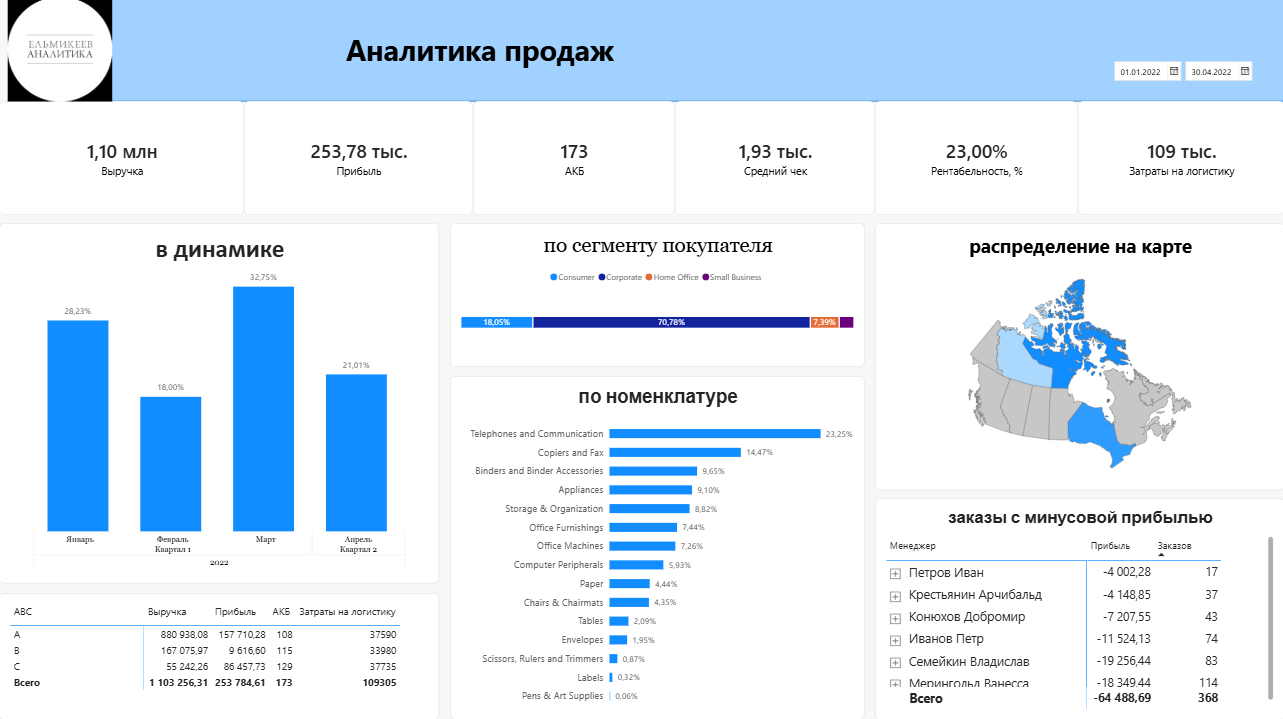

The page's visual inventory and layout, read from the dashboard file:
{"tool":"powerbi","page":{"name":"Страница 1","canvas":[1920,1080],"ordinal":0},"visuals":[{"type":"hundredPercentStackedBarChart","fields":{"Y":["Продажи.Выручка Всего"],"Series":["СПР_покупатели.Сегмент покупателя"]},"box":[673.5,336.8,619.1,214.7],"z":0},{"type":"clusteredColumnChart","title":"в динамике","fields":{"Category":["Календарь.Дата.Изменение.Иерархия дат.Год","Календарь.Дата.Изменение.Иерархия дат.Квартал","Календарь.Дата.Изменение.Иерархия дат.Месяц","Календарь.Дата.Изменение.Иерархия дат.День"],"Y":["Продажи.Выручка Всего"]},"box":[0,336.8,657.4,538.2],"z":1000},{"type":"shape","box":[17.6,0,1901.5,155.9],"z":1500},{"type":"shapeMap","fields":{"Category":["СПР_менеджеры.Регион"],"Value":["Продажи.Выручка Всего"]},"box":[1307.4,336.8,611.8,398.5],"z":2000},{"type":"clusteredBarChart","title":"по номенклатуре","fields":{"Category":["СПР_продукты.Категория продукта","СПР_продукты.Подкатегория продукта","СПР_продукты.Продукт"],"Y":["Продажи.Выручка Всего"]},"box":[673.5,566.2,619.1,513.2],"z":3000},{"type":"pivotTable","title":"заказы с минусовой прибылью","fields":{"Rows":["СПР_менеджеры.Менеджер","Продажи.Order_ID"],"Values":["Продажи.Прибыль Всего","CountNonNull(Продажи.Order_ID)"]},"box":[1307.4,747.1,611.8,332.4],"z":4000},{"type":"pivotTable","fields":{"Rows":["СПР_продукты.ABC"],"Values":["Продажи.Выручка Всего","Продажи.Прибыль Всего","Продажи.АКБ","Продажи.Затраты на логистику"]},"box":[0,889.7,657.4,189.7],"z":6000},{"type":"cardVisual","fields":{"Data":["Продажи.Выручка Всего"]},"box":[0,155.9,366.2,170.6],"z":7000},{"type":"cardVisual","fields":{"Data":["Продажи.Прибыль Всего"]},"box":[366.2,155.9,341.2,170.6],"z":8000},{"type":"cardVisual","fields":{"Data":["Продажи.АКБ"]},"box":[707.4,155.9,301.5,170.6],"z":9000},{"type":"cardVisual","fields":{"Data":["Продажи.Средний чек"]},"box":[1008.8,155.9,298.5,170.6],"z":10000},{"type":"cardVisual","fields":{"Data":["Продажи.Рентабельность"]},"box":[1307.4,155.9,302.9,170.6],"z":11000},{"type":"cardVisual","fields":{"Data":["Продажи.Затраты на логистику"]},"box":[1610.3,155.9,308.8,170.6],"z":12000},{"type":"slicer","fields":{"Values":["Календарь.Дата"]},"box":[1657.4,91.2,214.7,38.2],"z":13000},{"type":"image","box":[0,0,182.4,155.9],"z":14000}]}

Visuals, with their boxes in screenshot pixels (x1, y1, x2, y2), scaled from the page's 1920x1080 canvas onto the 1283x719 screenshot:
hundredPercentStackedBarChart - Продажи.Выручка Всего x СПР_покупатели.Сегмент покупателя: bbox=[450, 224, 864, 367]
"в динамике" clusteredColumnChart: bbox=[0, 224, 439, 583]
shape: bbox=[12, 0, 1282, 104]
shapeMap - СПР_менеджеры.Регион x Продажи.Выручка Всего: bbox=[874, 224, 1282, 490]
"по номенклатуре" clusteredBarChart: bbox=[450, 377, 864, 718]
"заказы с минусовой прибылью" pivotTable: bbox=[874, 497, 1282, 718]
pivotTable - СПР_продукты.ABC x Продажи.Выручка Всего: bbox=[0, 592, 439, 718]
cardVisual - Продажи.Выручка Всего: bbox=[0, 104, 245, 217]
cardVisual - Продажи.Прибыль Всего: bbox=[245, 104, 473, 217]
cardVisual - Продажи.АКБ: bbox=[473, 104, 674, 217]
cardVisual - Продажи.Средний чек: bbox=[674, 104, 874, 217]
cardVisual - Продажи.Рентабельность: bbox=[874, 104, 1076, 217]
cardVisual - Продажи.Затраты на логистику: bbox=[1076, 104, 1282, 217]
slicer - Календарь.Дата: bbox=[1108, 61, 1251, 86]
image: bbox=[0, 0, 122, 104]
